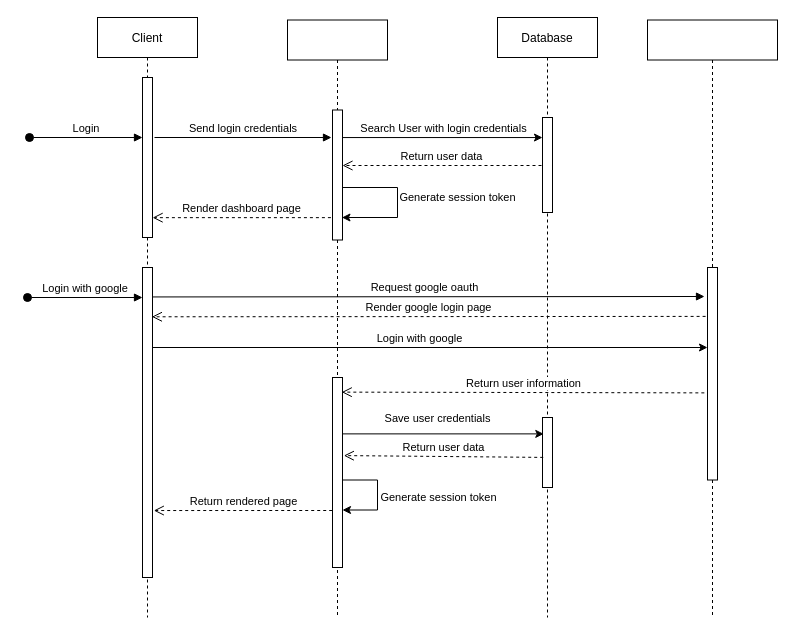
This 795x635 diagram has some shape labels left out. Here are the shapes that lost their labels. From the top down, the box of each, then its label:
(286, 19, 388, 618): Server
(646, 19, 778, 618): Google OAuth Server
